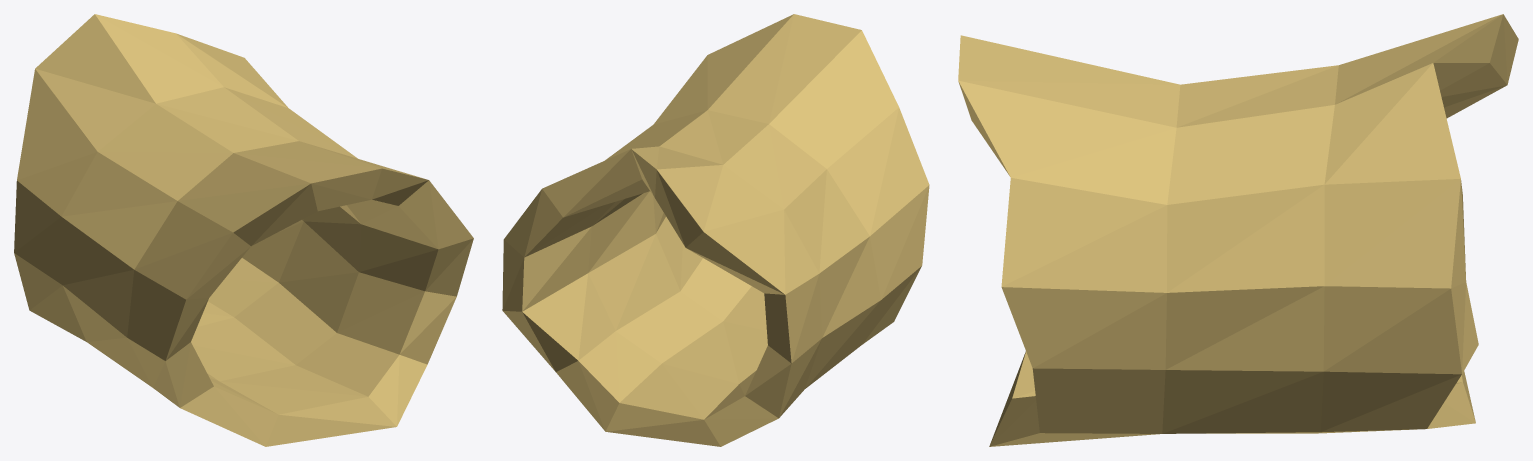
File: Log.FBX
3 views of the same model, side by side, from view 1: azimuth 30°, elevation 25°; view 2: azimuth 150°, elevation 25°; view 3: azimuth 270°, elevation 25° (orthographic). The views are drawn at different scales.
Parts seen in each view (by area): view 1: Log; view 2: Log; view 3: Log.
Part boxes in pixels (x1=…): Log: x1=14, y1=14, x2=473, y2=446; Log: x1=502, y1=14, x2=929, y2=446; Log: x1=958, y1=14, x2=1518, y2=446.
Bounding box in the file's own units: 25.49 × 24.24 × 33.27.
1 material, 1 textured.
